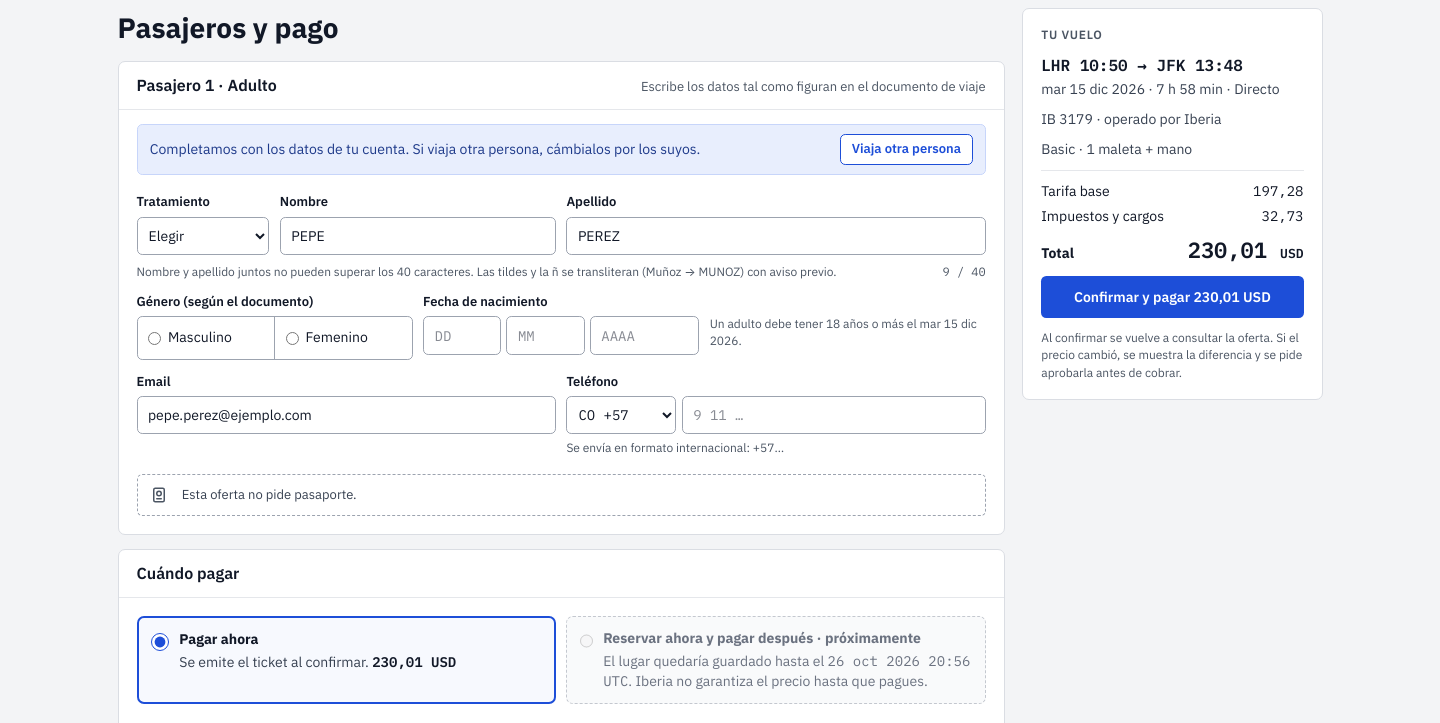
it: passengers and payment › clears the date error as soon as day, month and year make a valid date
Check: the heading "Pasajeros y pago" is shown, box [118,9,338,46]
Click the button "Confirmar y pagar 230,01 USD" at (1172,298), box [1041,276,1304,318]
(page scrolled)
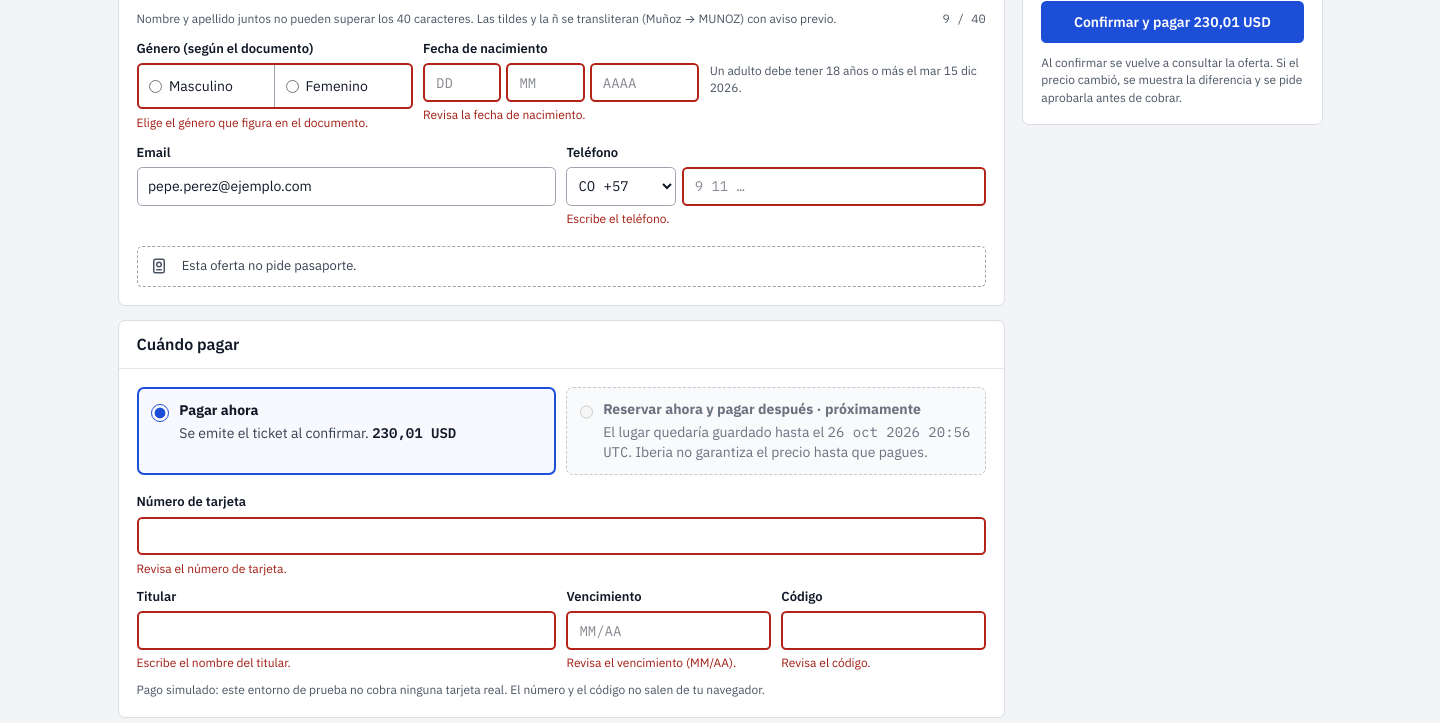
Check: the text "Revisa la fecha de nacimiento." is shown, box [423,107,586,122]
Type "20" into the field named "Día" at (462,83), box [423,63,501,102]
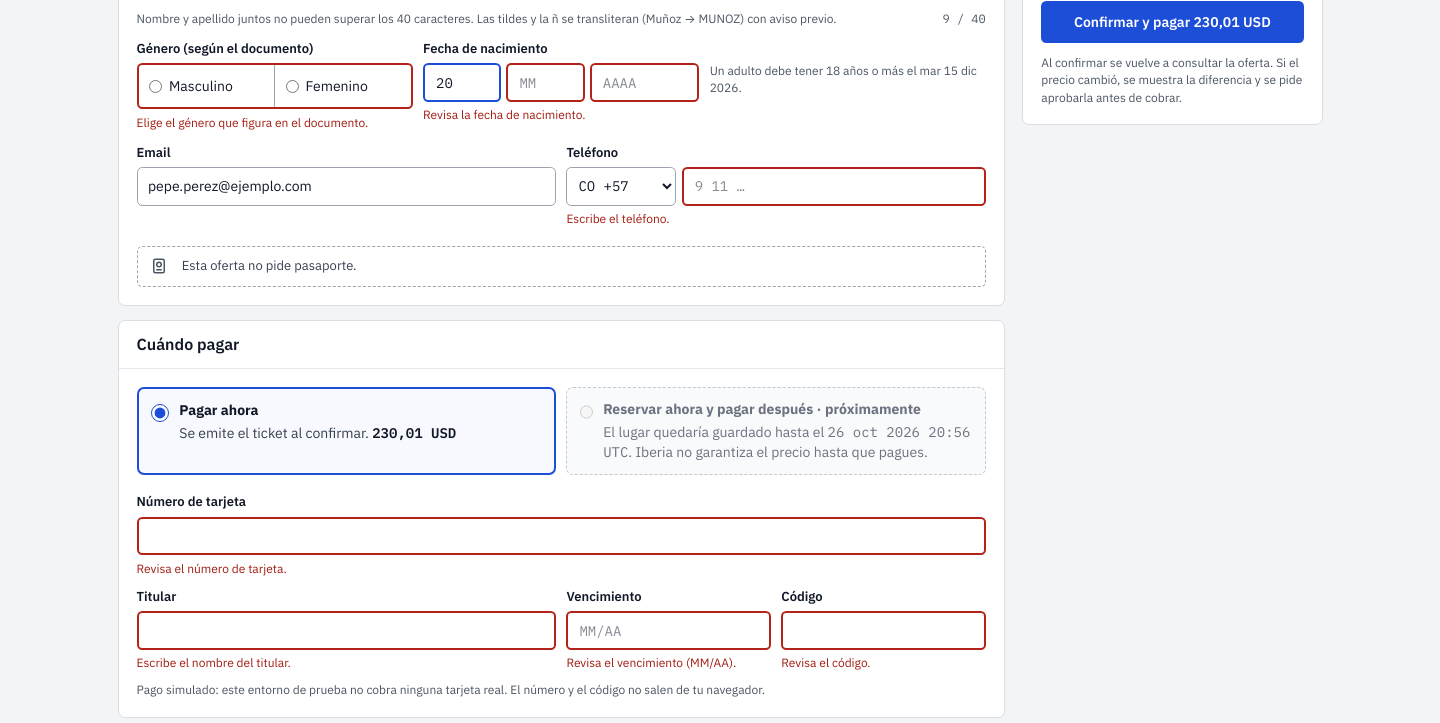
Type "5" into the field named "Mes" at (545,83), box [506,63,584,102]
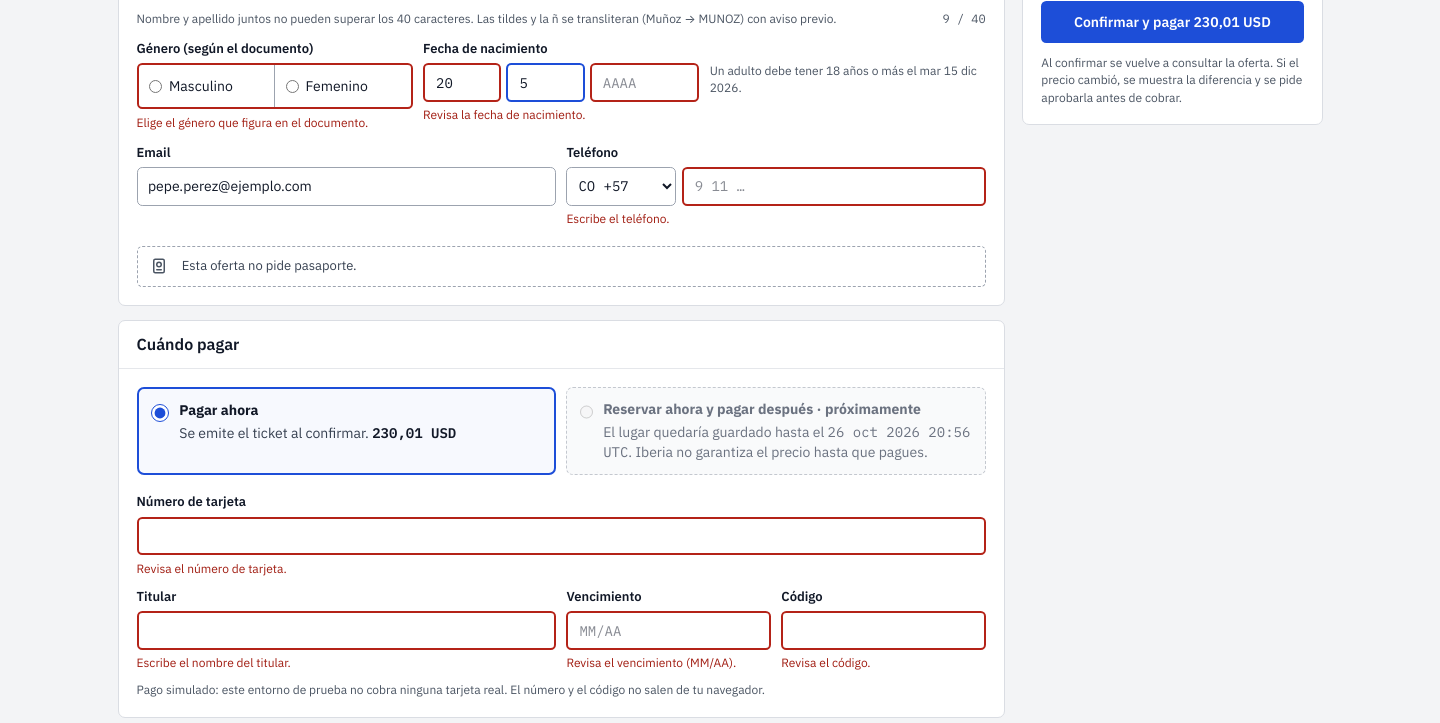
Type "1990" into the field named "Año" at (644,83), box [590,63,699,102]
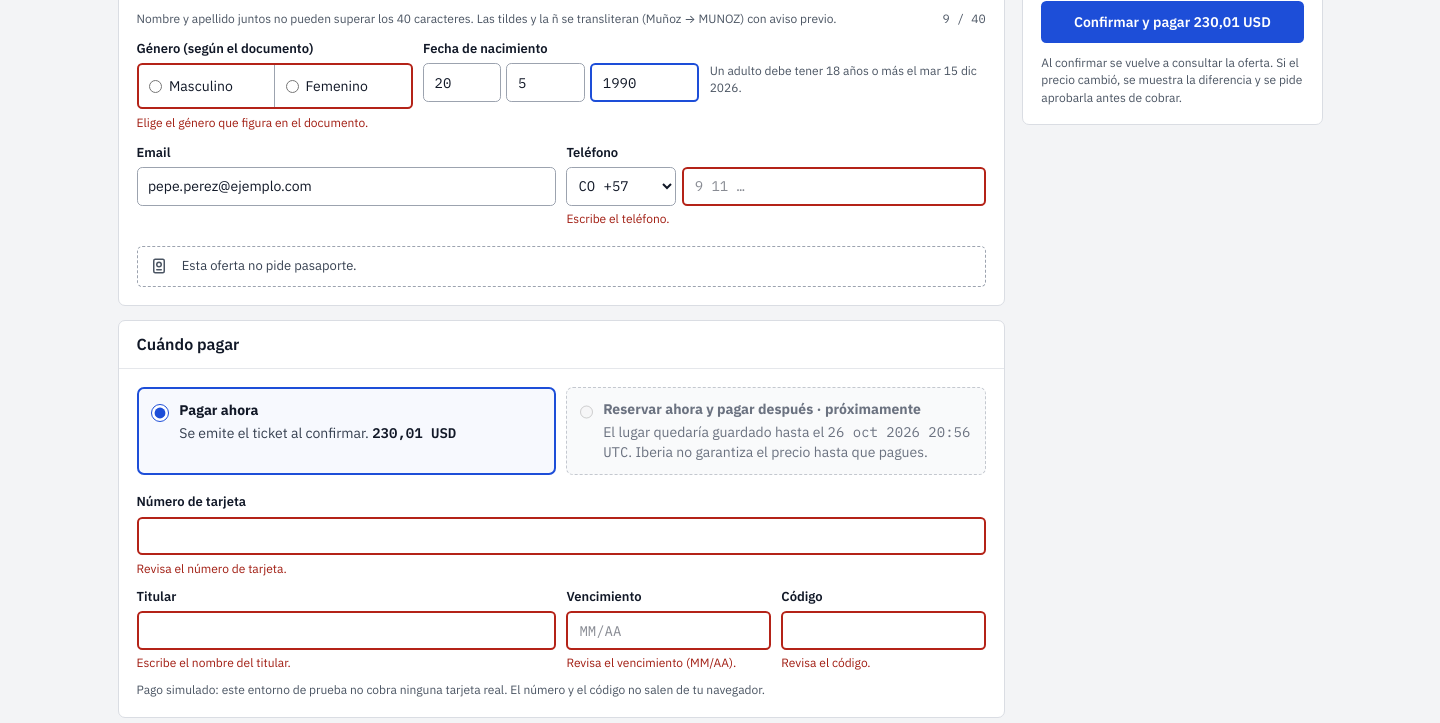
Check: the text "Revisa la fecha de nacimiento." is gone
